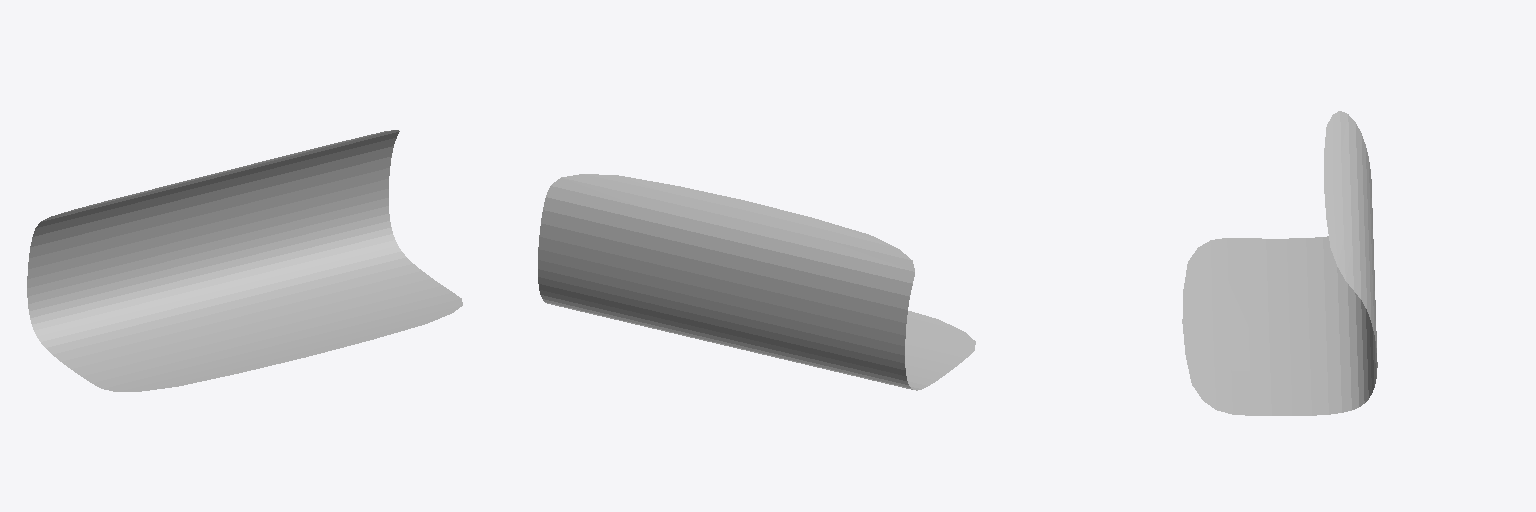
The model's file is curvePlane.obj.
3 views of the same model, side by side, from view 1: azimuth 30°, elevation 25°; view 2: azimuth 150°, elevation 25°; view 3: azimuth 270°, elevation 25° (orthographic).
Visible parts, largest first — view 1: curvePlane; view 2: curvePlane; view 3: curvePlane.
Boxes of the visible parts, x1=… form: curvePlane: x1=27, y1=130, x2=462, y2=391; curvePlane: x1=538, y1=174, x2=975, y2=390; curvePlane: x1=1182, y1=111, x2=1377, y2=415.
Size of the model in its own units: 841 by 313 by 388.